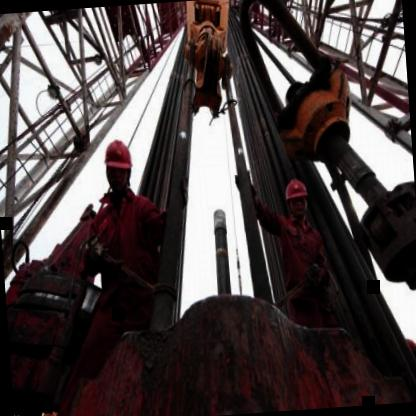helmet: (101, 136, 136, 197), (282, 176, 310, 219)
